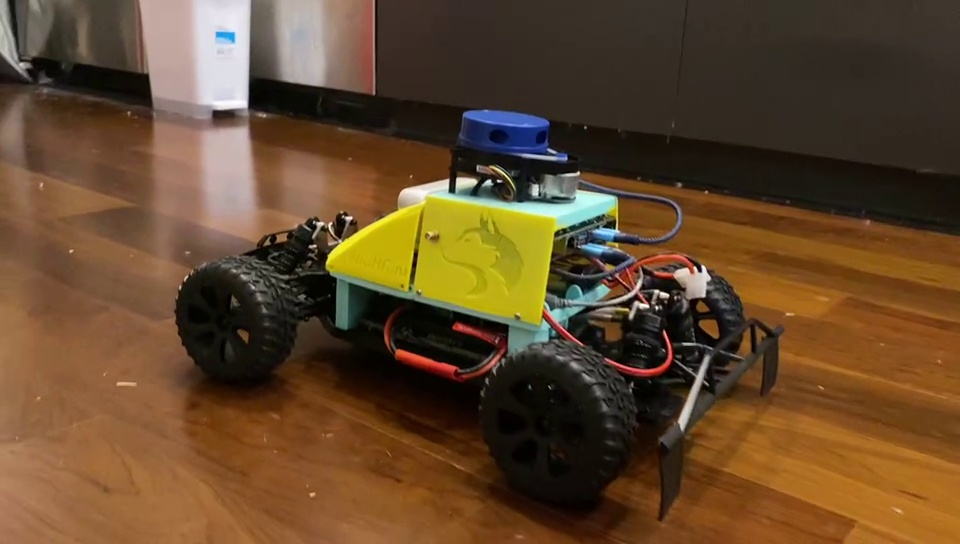mushr_car: (161, 108, 793, 525)
